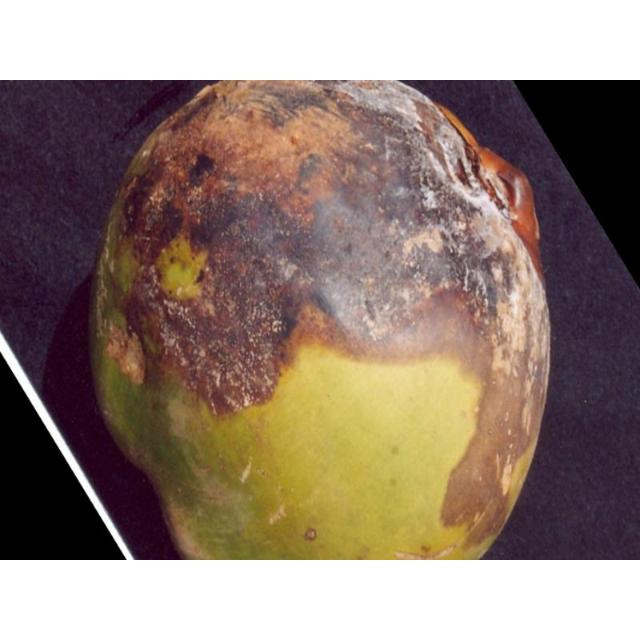damaged: (86, 80, 552, 559)
